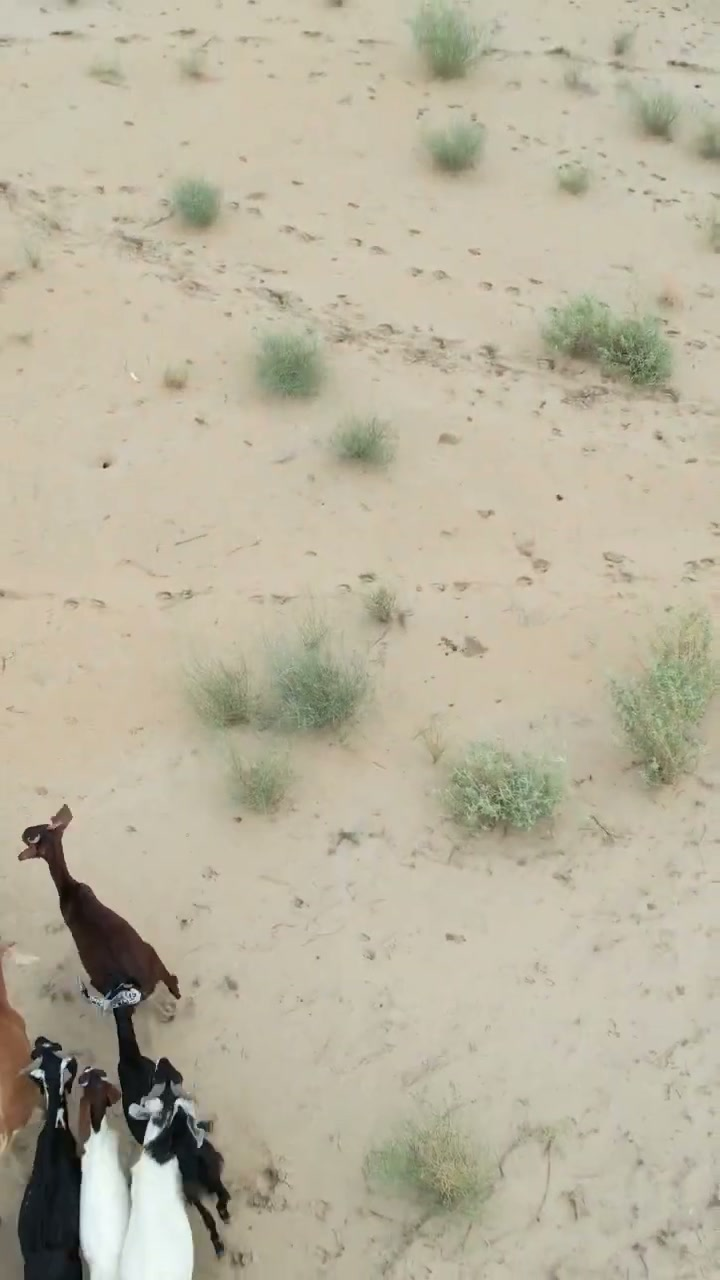animal_footprint: (45, 956, 300, 1268)
